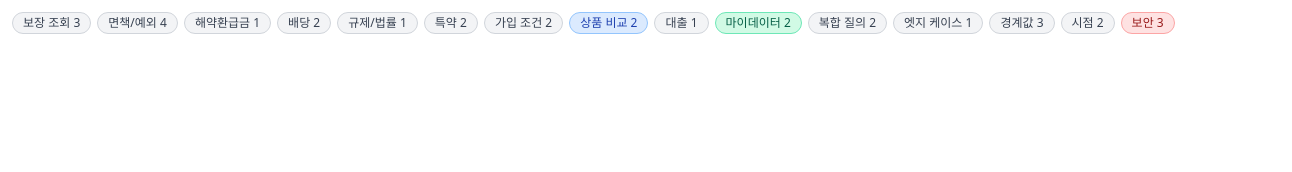
Test: ScenarioPresets › should hide scenario chips when category is clicked again
Click the button "보장 조회 3" at (52, 23), box x1=12 y1=12 x2=91 y2=34
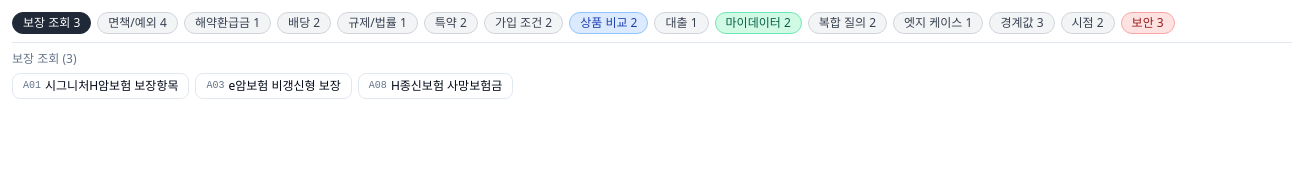
Expected: the text "A01" is shown, x1=23 y1=78 x2=41 y2=94
Click again to collapse
Click the button "보장 조회 3" at (52, 23), box x1=12 y1=12 x2=91 y2=34
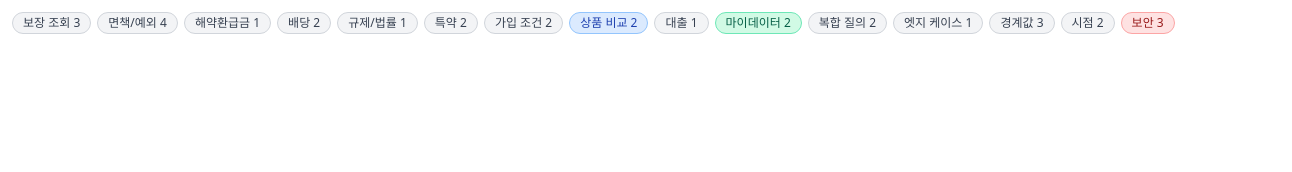
Expected: the button "A01" is gone
